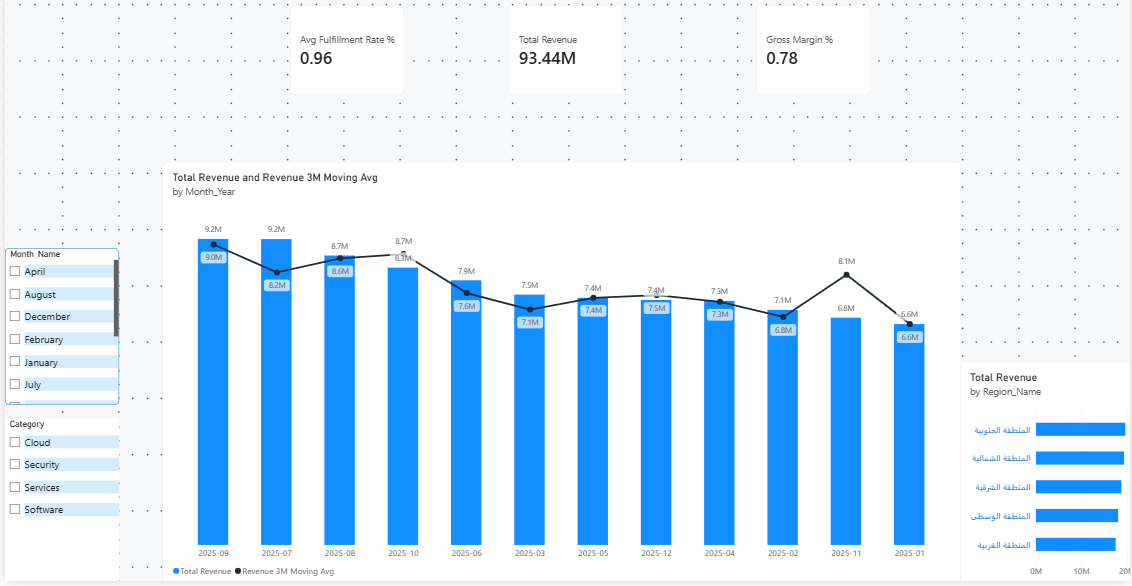

Layout of this report page (visuals, bound fields, positions):
{"tool":"powerbi","page":{"name":"Page ١","canvas":[1920,1080],"ordinal":0},"visuals":[{"type":"lineStackedColumnComboChart","fields":{"Category":["Dim_Calendar.Month_Year"],"Y":["Dim_Calendar.Total Revenue"],"Y2":["Dim_Calendar.Revenue 3M Moving Avg"]},"box":[264,360,1344,720],"z":3000},{"type":"clusteredBarChart","fields":{"Category":["dim_regions.Region_Name"],"Y":["Dim_Calendar.Total Revenue"]},"box":[1608,696,312,384],"z":3001},{"type":"slicer","fields":{"Values":["Dim_Calendar.Month_Name"]},"box":[0,504,192,264],"z":3002},{"type":"slicer","fields":{"Values":["fact_sales.Category"]},"box":[0,792,192,288],"z":3003},{"type":"cardVisual","fields":{"Data":["Dim_Calendar.Avg Fulfillment Rate %"]},"box":[480,96,192,150],"z":3004},{"type":"cardVisual","fields":{"Data":["Dim_Calendar.Total Revenue"]},"box":[848,96,192,150],"z":3005},{"type":"cardVisual","fields":{"Data":["Dim_Calendar.Gross Margin %"]},"box":[1264,96,192,150],"z":3006}]}

Visuals, with their boxes on the page's 1920x1080 design canvas (x1, y1, x2, y2). These are canvas units, not pixel positions in the 1132x586 screenshot, which may show the page scaled, cropped or inside an application window:
lineStackedColumnComboChart - Dim_Calendar.Month_Year x Dim_Calendar.Total Revenue: left=264, top=360, right=1608, bottom=1080
clusteredBarChart - dim_regions.Region_Name x Dim_Calendar.Total Revenue: left=1608, top=696, right=1920, bottom=1080
slicer - Dim_Calendar.Month_Name: left=0, top=504, right=192, bottom=768
slicer - fact_sales.Category: left=0, top=792, right=192, bottom=1080
cardVisual - Dim_Calendar.Avg Fulfillment Rate %: left=480, top=96, right=672, bottom=246
cardVisual - Dim_Calendar.Total Revenue: left=848, top=96, right=1040, bottom=246
cardVisual - Dim_Calendar.Gross Margin %: left=1264, top=96, right=1456, bottom=246
